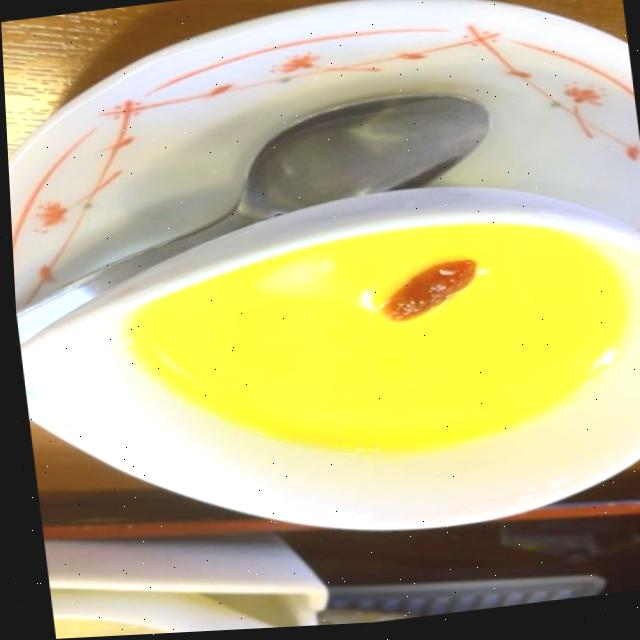面条主食: (1, 0, 640, 606)
